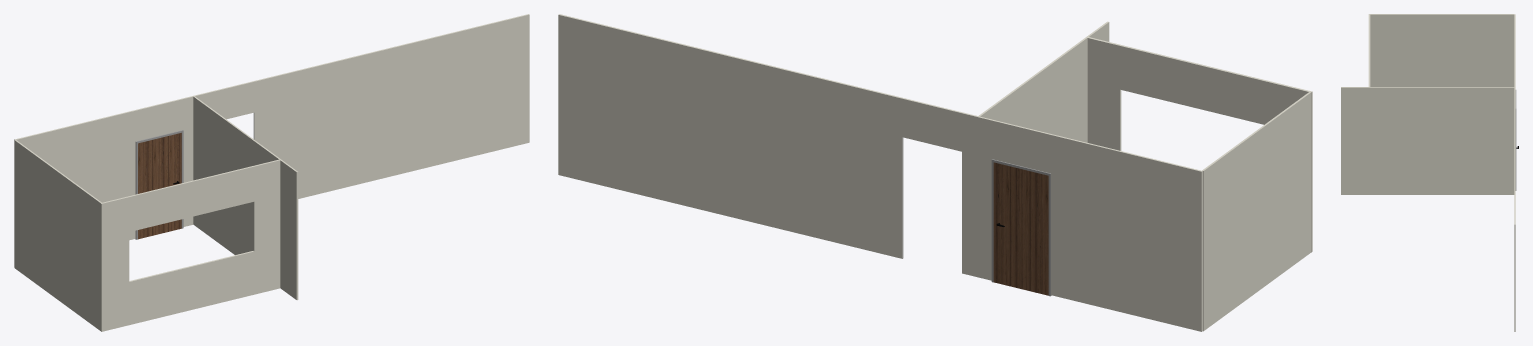
File: playroooooom.fbx
3 views of the same model, side by side, from view 1: azimuth 30°, elevation 25°; view 2: azimuth 150°, elevation 25°; view 3: azimuth 270°, elevation 25° (orthographic). The views are drawn at different scales.
Visible parts, largest first — view 1: livingroom:livingroom:polySurface4, polySurface106, polySurface1, polySurface3, polySurface24, polySurface22; view 2: livingroom:livingroom:polySurface4, polySurface1, polySurface106, polySurface24, polySurface3, polySurface22; view 3: polySurface3, polySurface1, livingroom:livingroom:polySurface4, polySurface106, polySurface22.
Boxes of the visible parts, x1,y1,x2,y2 form: livingroom:livingroom:polySurface4: (14, 14, 529, 267); polySurface106: (100, 159, 280, 331); polySurface1: (14, 140, 101, 330); polySurface3: (193, 96, 298, 300); polySurface24: (138, 133, 181, 239); polySurface22: (135, 130, 183, 239); livingroom:livingroom:polySurface4: (558, 14, 1202, 331); polySurface1: (1202, 92, 1310, 331); polySurface106: (1087, 37, 1312, 252); polySurface24: (993, 162, 1048, 295); polySurface3: (978, 21, 1109, 142); polySurface22: (991, 159, 1051, 296); polySurface3: (1341, 87, 1514, 194); polySurface1: (1370, 14, 1514, 86); livingroom:livingroom:polySurface4: (1514, 14, 1515, 331); polySurface106: (1368, 14, 1370, 86); polySurface22: (1515, 90, 1516, 190).
Size of the model in its own units: 86.44 by 20.67 by 30.82.
